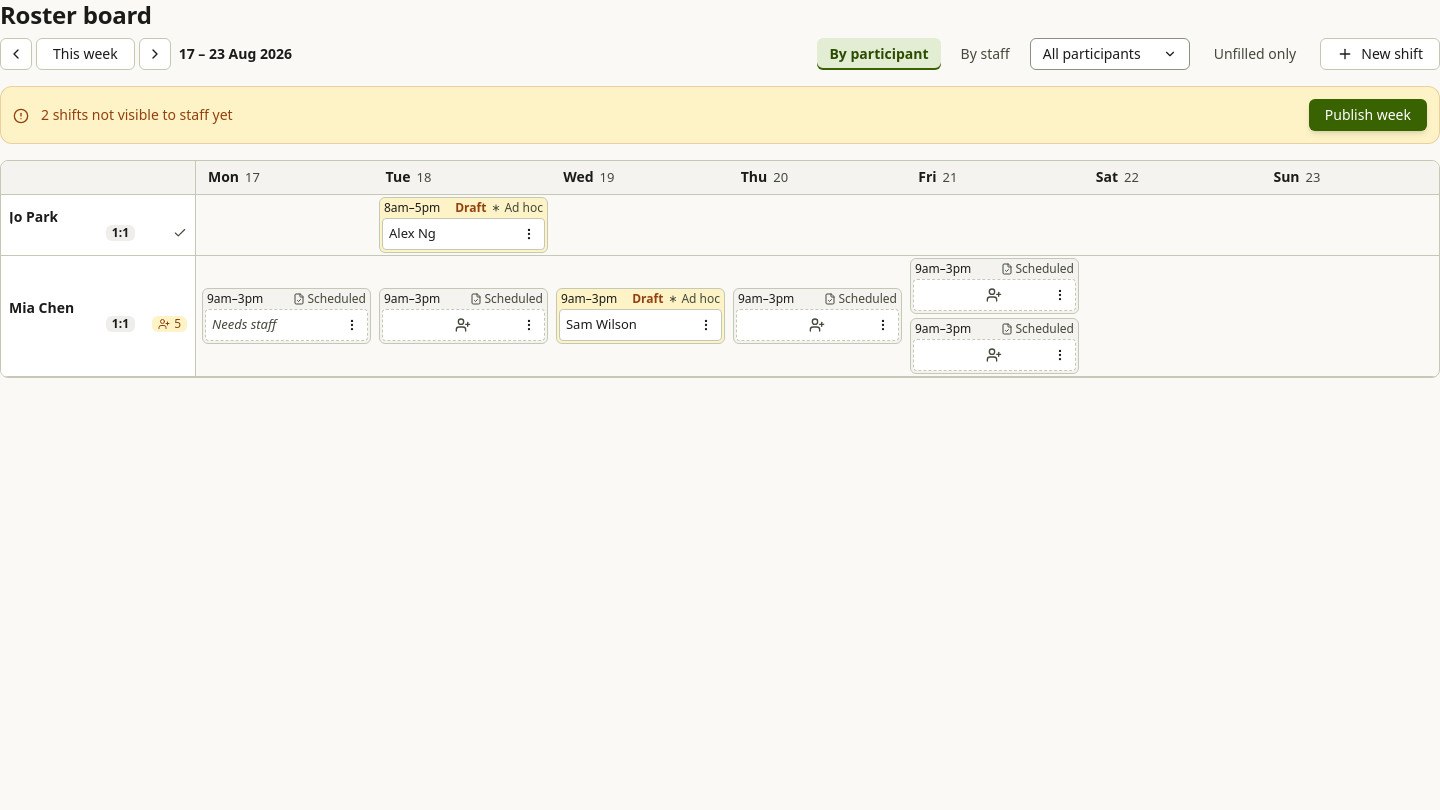
Test case: RosterBoardPage: the picker on a phone and in the Staff view › is the SlideOver on a phone, and the pick's pending look reaches the grid there too (SHAPE departure 15)
Click the button named "Assign someone to Tuesday 9am to 3pm for Mia" at (450, 324), box [382,308,517,340]
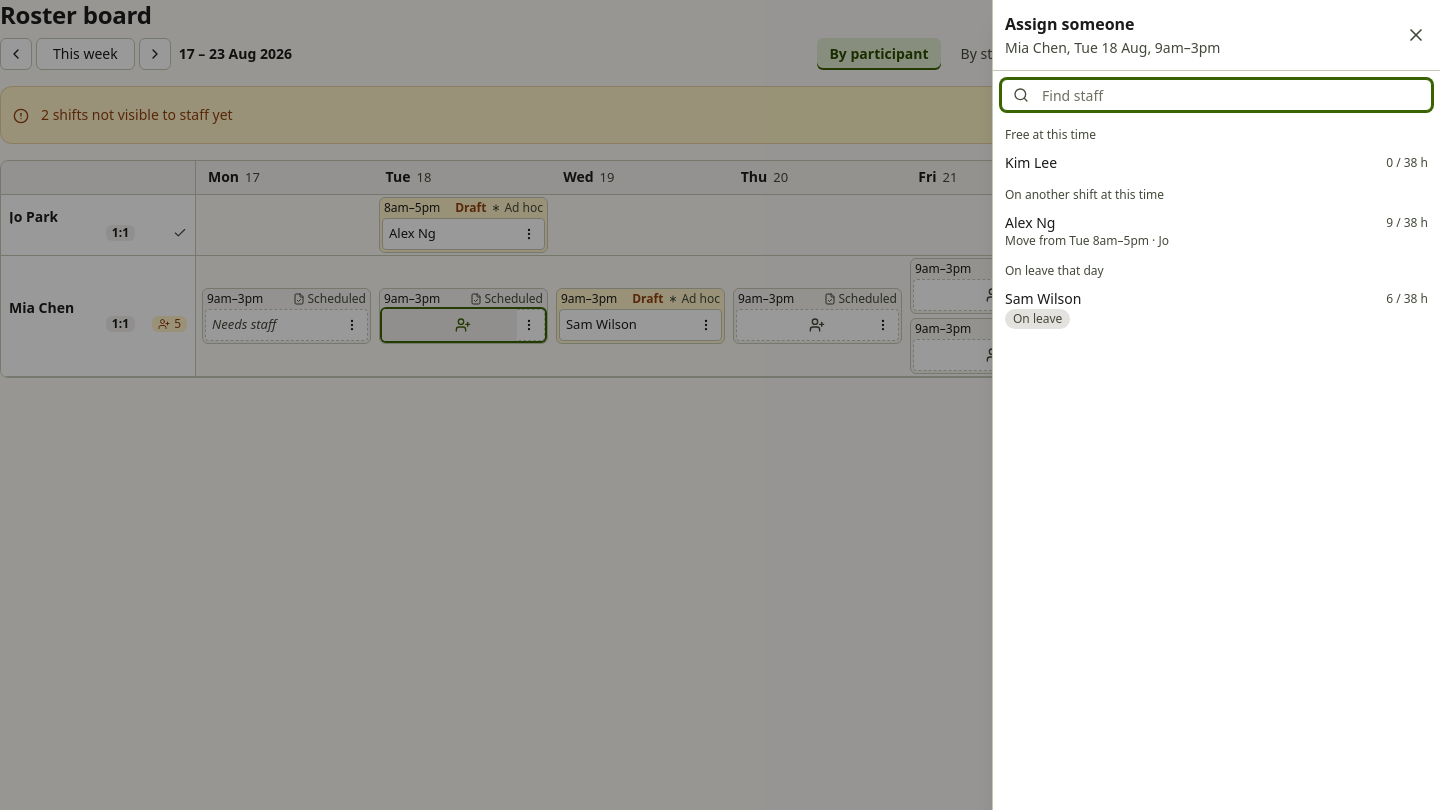
Click the option "Kim Lee 0 / 38 h" at (1031, 162), box [1005,153,1428,172]
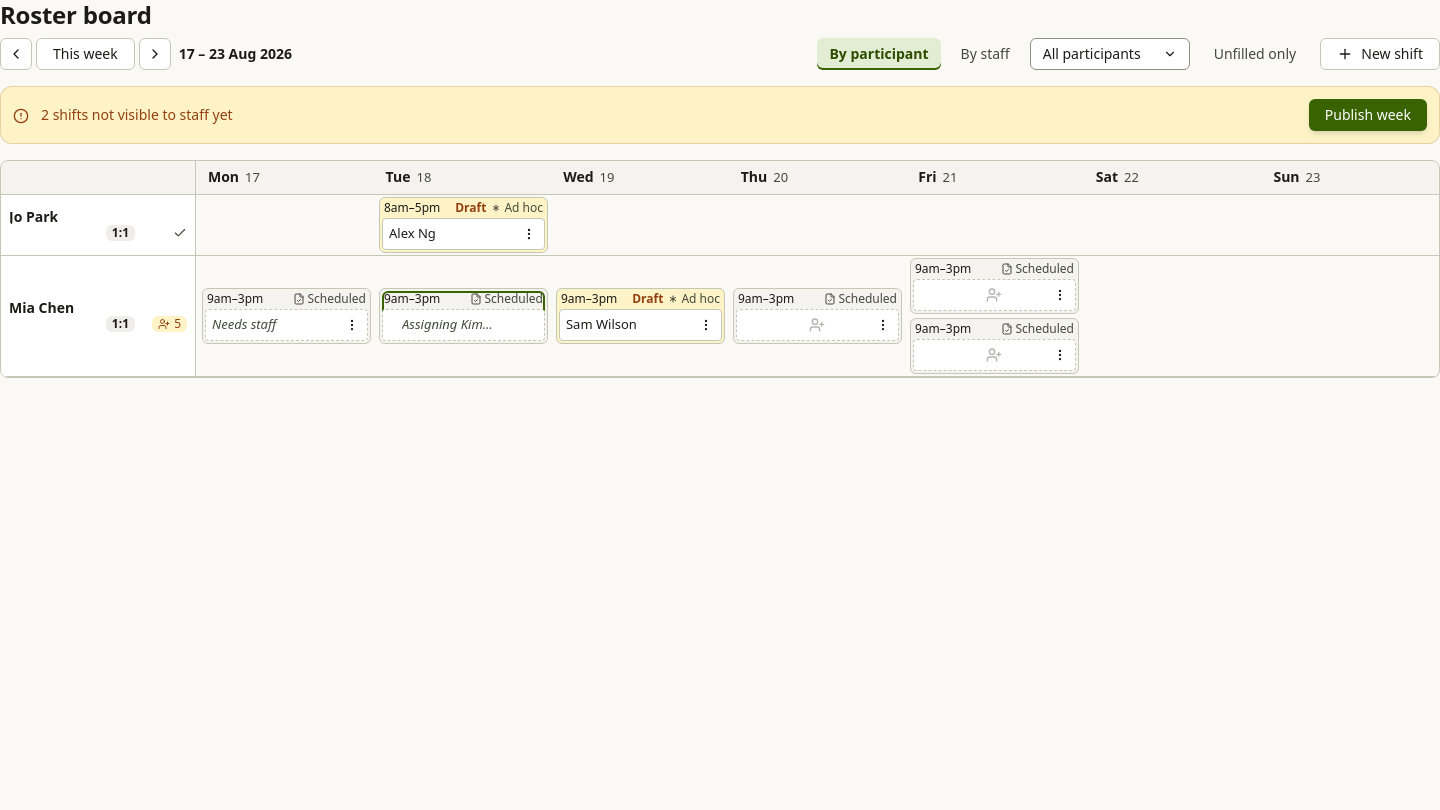
expect the element showing "9am–3pm Scheduled Assigning Kim…" is shown: met, box [379,288,548,344]
